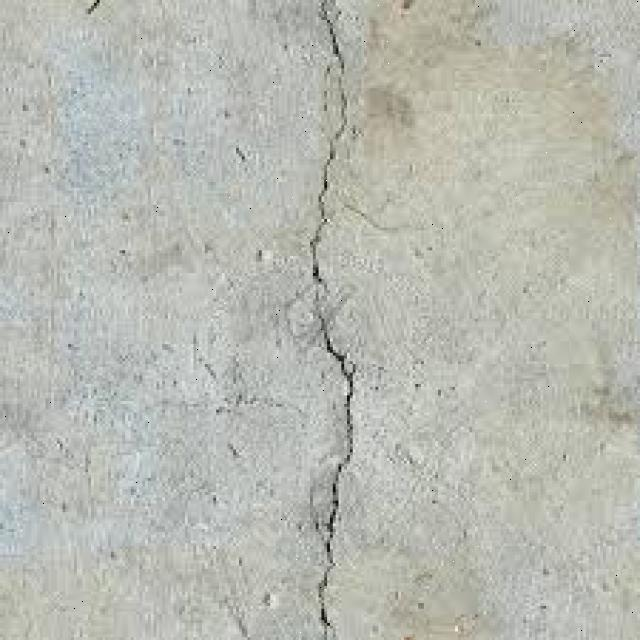crack: (305, 1, 357, 638)
